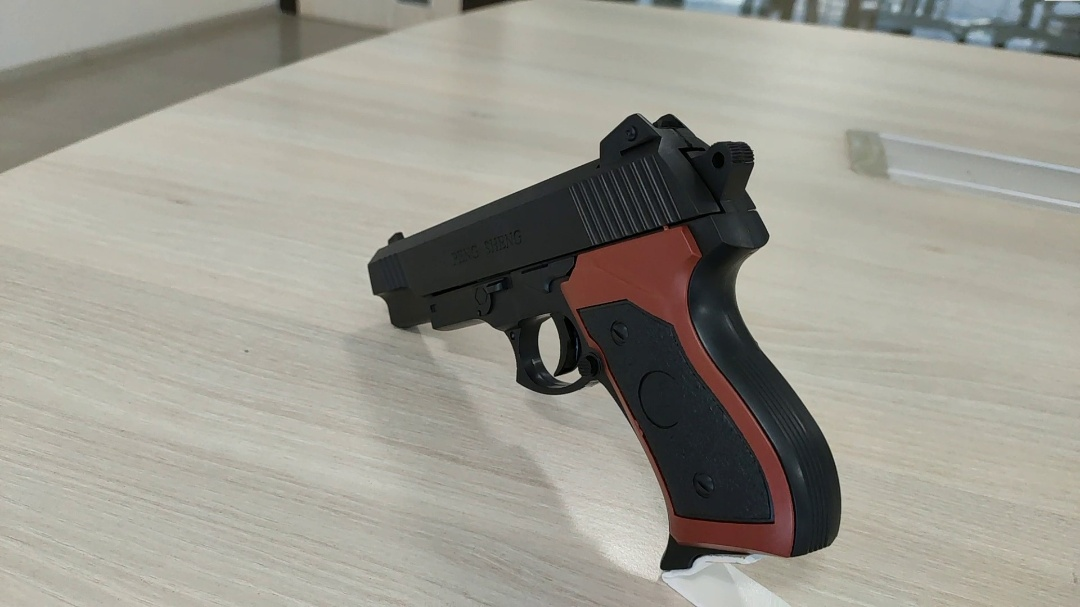gun: (570, 250, 712, 346)
